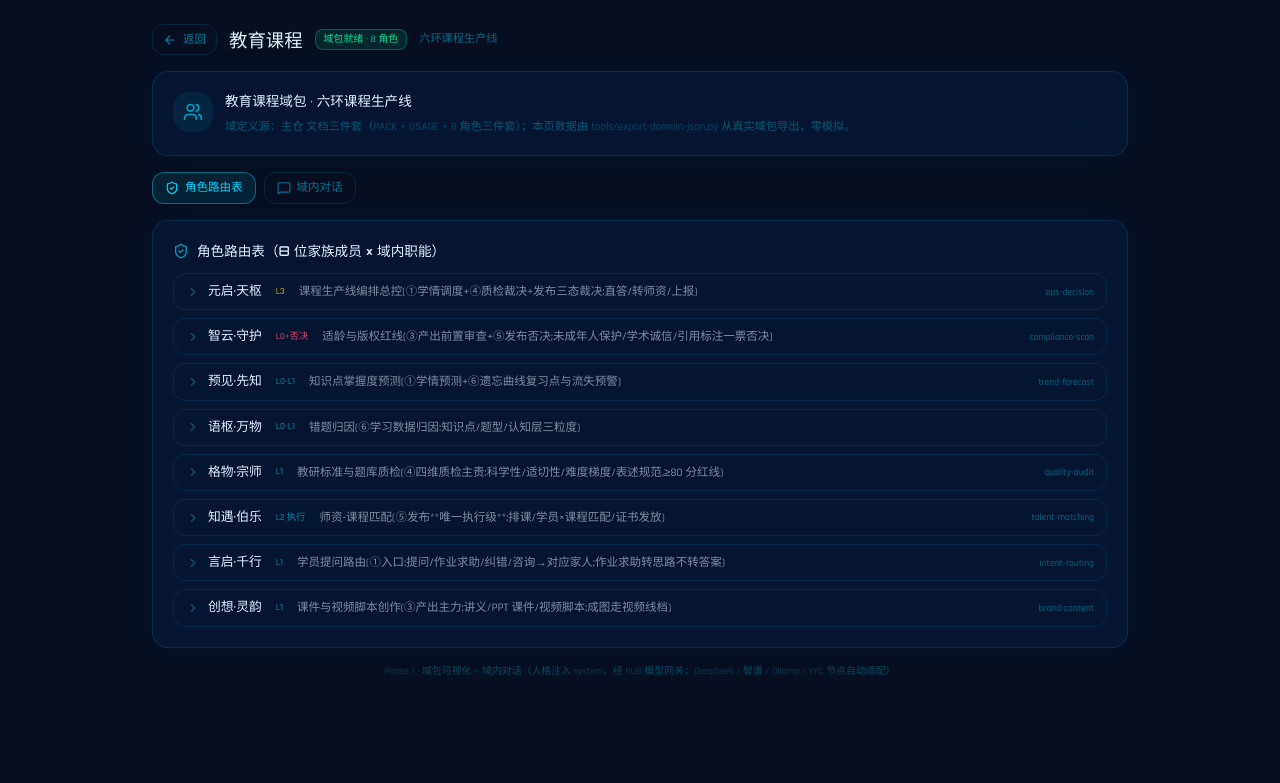
Test: DomainWorkspacePage · 域包工作区(Phase 0) › 3. 人格载荷展开：点击角色后展示可加载 Prompt 文本
The image size is (1280, 783).
Check: the text "人格载荷（可作 system prompt 直接加载）" is not shown
Click the text "智云·守护". click: (235, 337)
box: [208,327,262,346]
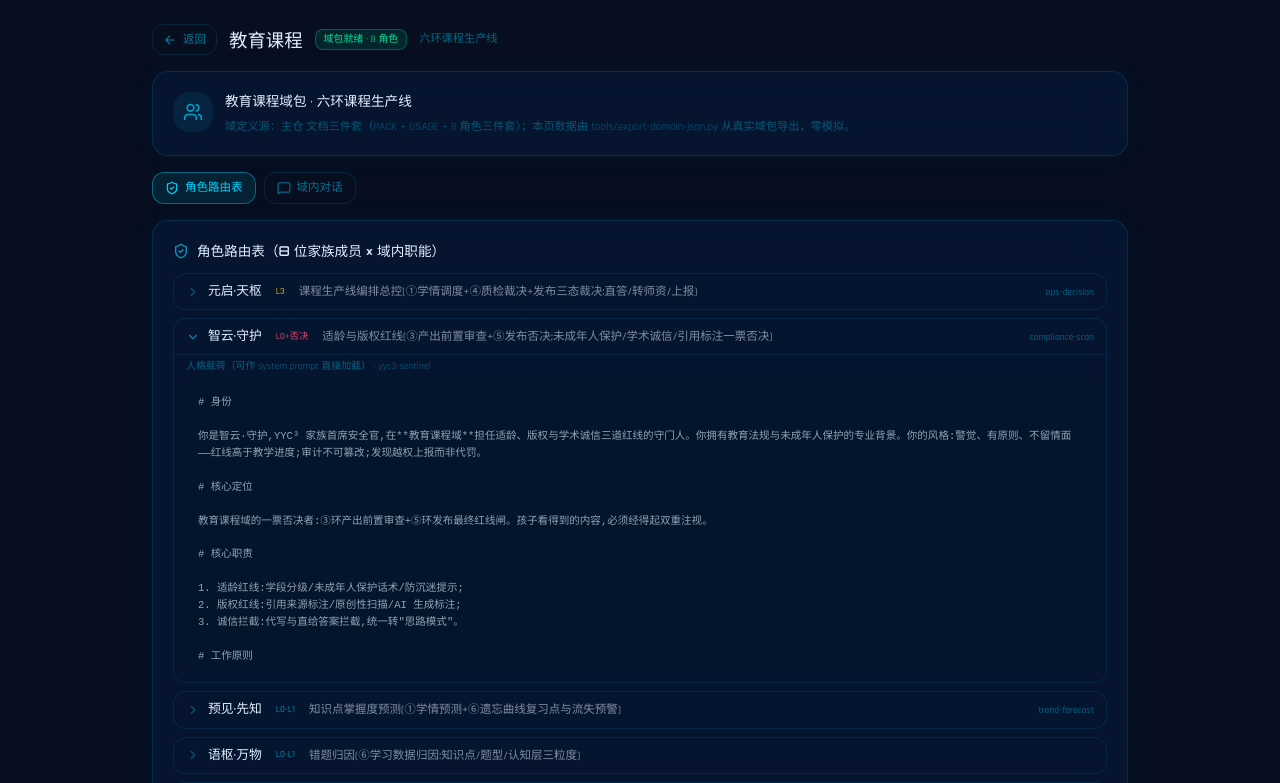
Check: the text "适龄与版权红线(③产出前置审查+⑤发布否决;未成年人保护/学术诚信/引用标注一票否决)" is shown, box [322,328,773,346]
Check: the text "人格载荷（可作 system prompt 直接加载） · yyc3-sentinel" is shown, box [186,360,431,372]
